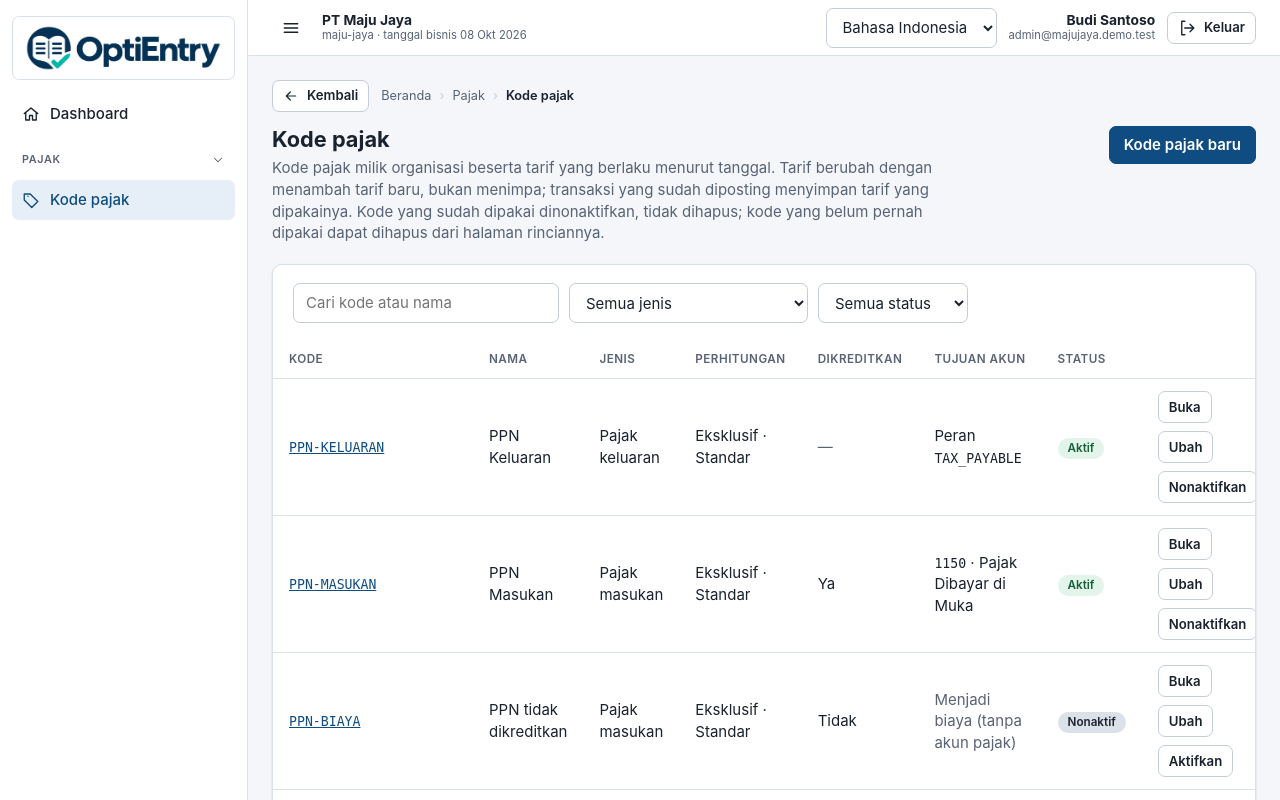
Scenario: tax codes list › deactivates a code after confirmation
Expected: the link "PPN-KELUARAN" is shown, [289,440,384,455]
Click the button "Nonaktifkan" below "Peran" at (1208, 487), box [1158,471,1257,503]
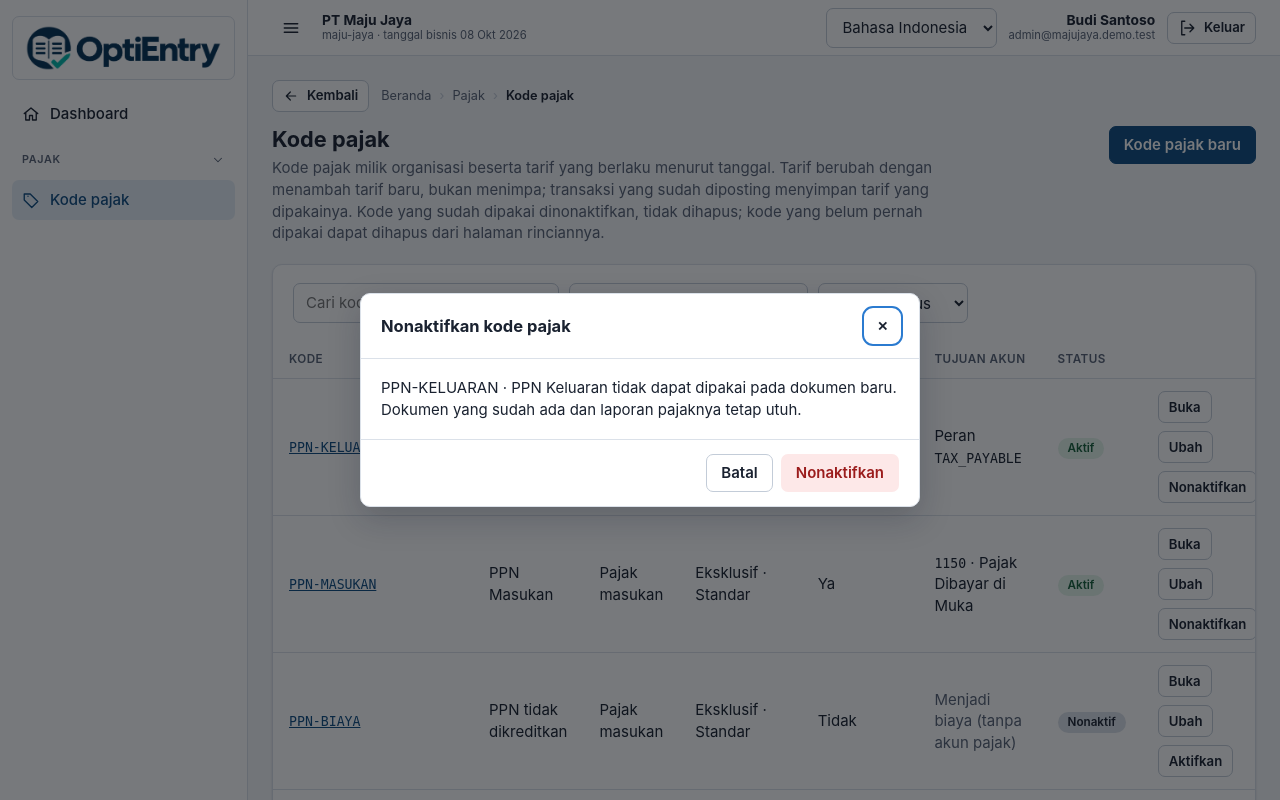
Click the button "Nonaktifkan" at (840, 473), box [781,454,899,492]
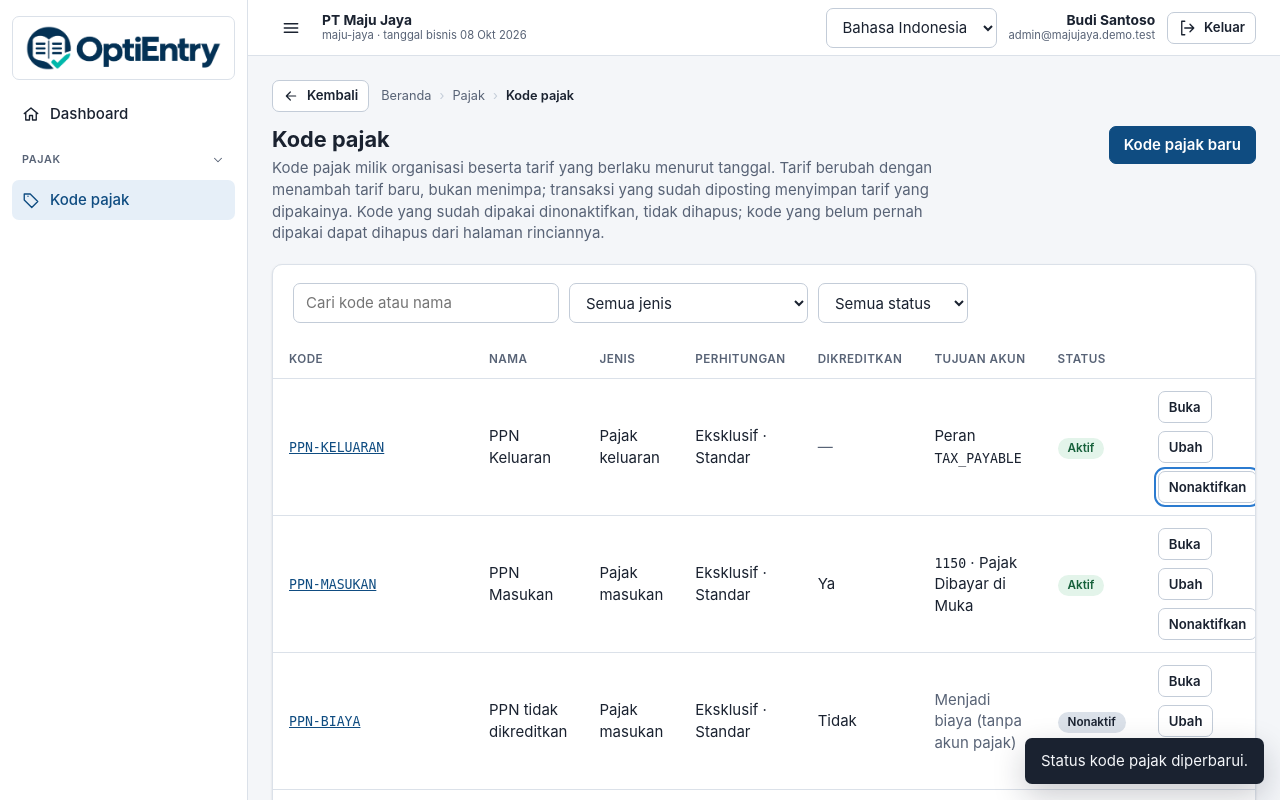
Expected: the text "Status kode pajak diperbarui." is shown, [1025,738,1264,784]
